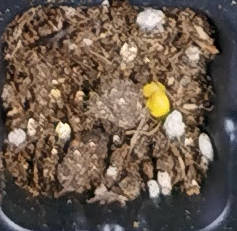chilli seed: (147, 92, 170, 117), (142, 81, 167, 96)
